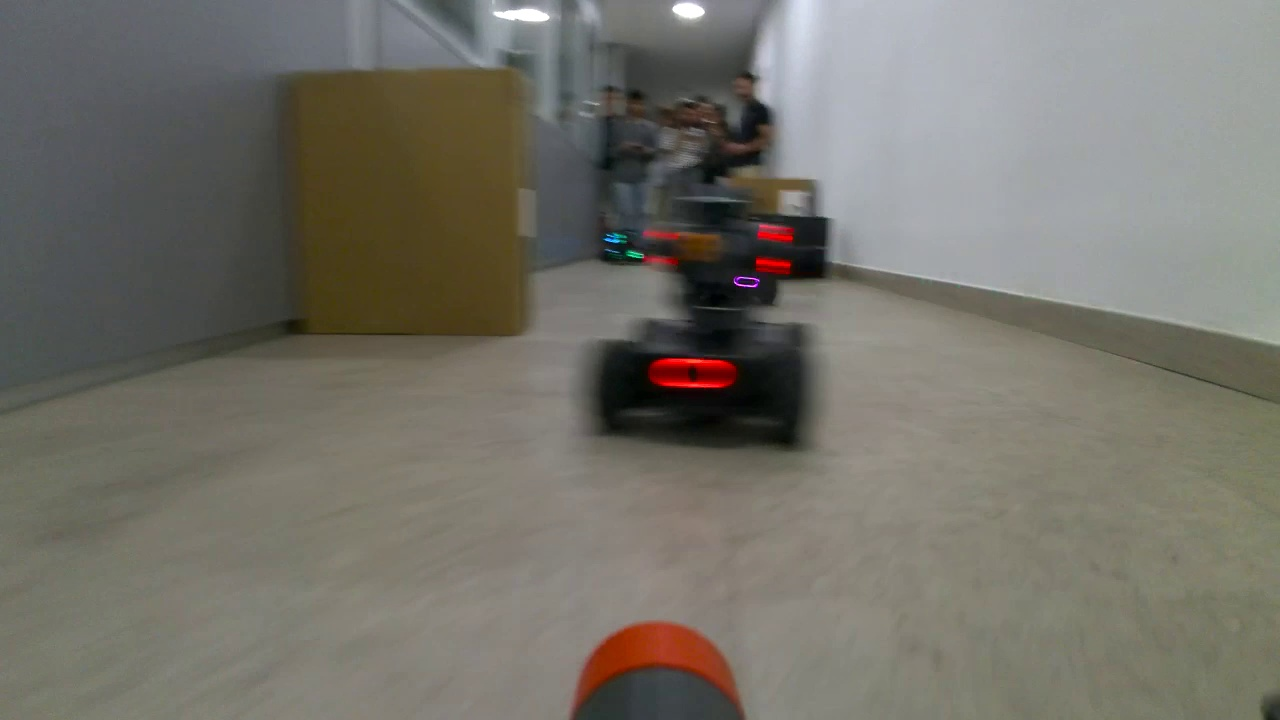robot: (584, 191, 814, 449)
